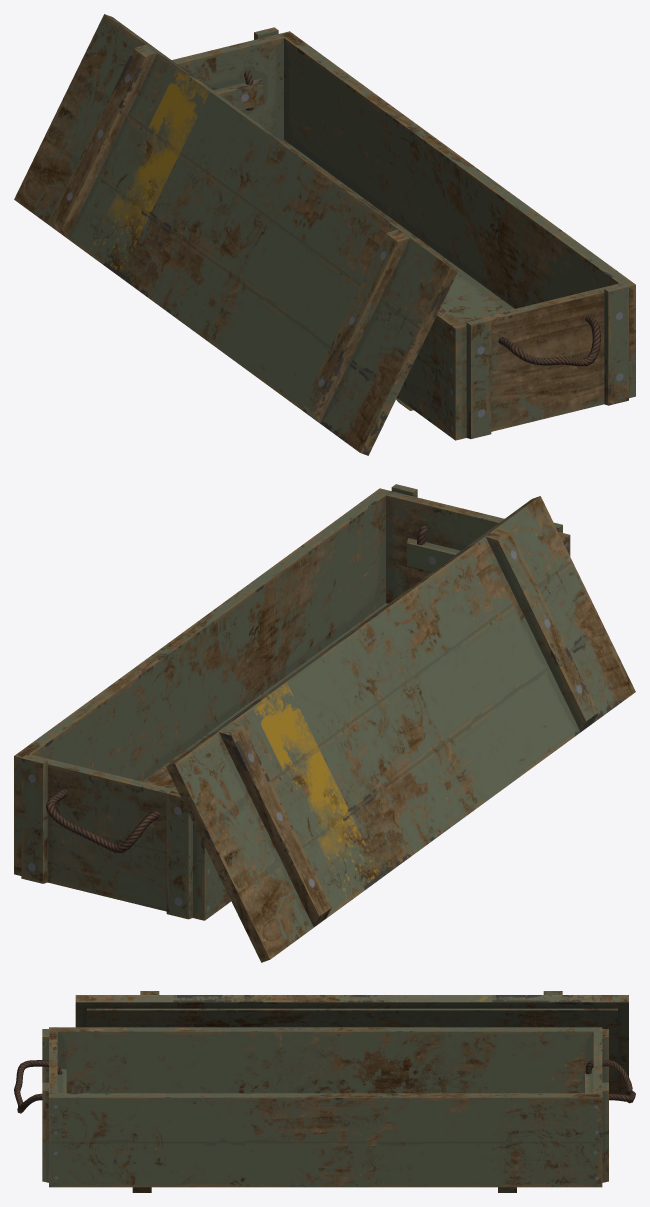
Rendered from Weapon Crate.fbx.
3 views of the same model, one above another, from view 1: azimuth 30°, elevation 25°; view 2: azimuth 150°, elevation 25°; view 3: azimuth 270°, elevation 25° (orthographic). The views are drawn at different scales.
Parts seen in each view (by area): view 1: WeaponCrate; view 2: WeaponCrate; view 3: WeaponCrate.
Boxes of the visible parts, box(x1,y1,x2,y2) form: WeaponCrate: box(14, 14, 635, 455); WeaponCrate: box(14, 484, 635, 962); WeaponCrate: box(14, 991, 635, 1192).
Bounding box in the file's own units: 38.13 × 23.25 × 97.26.
Materials: 1 (1 with a texture image).
